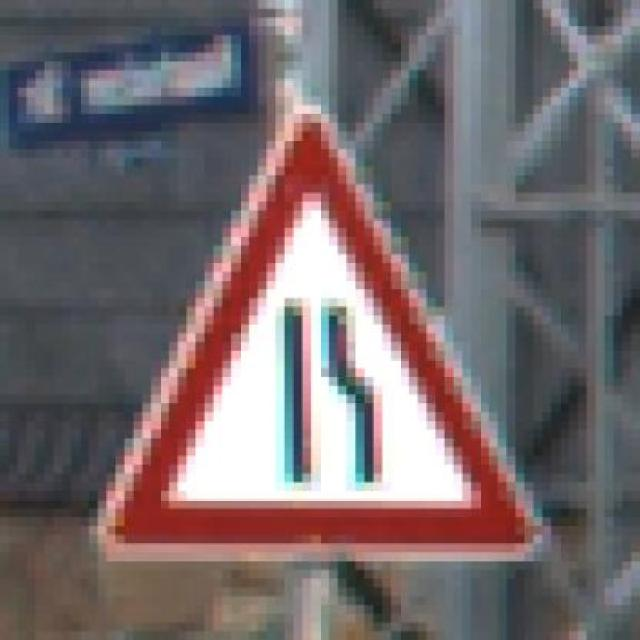-Road narrows on right: (71, 87, 560, 570)
